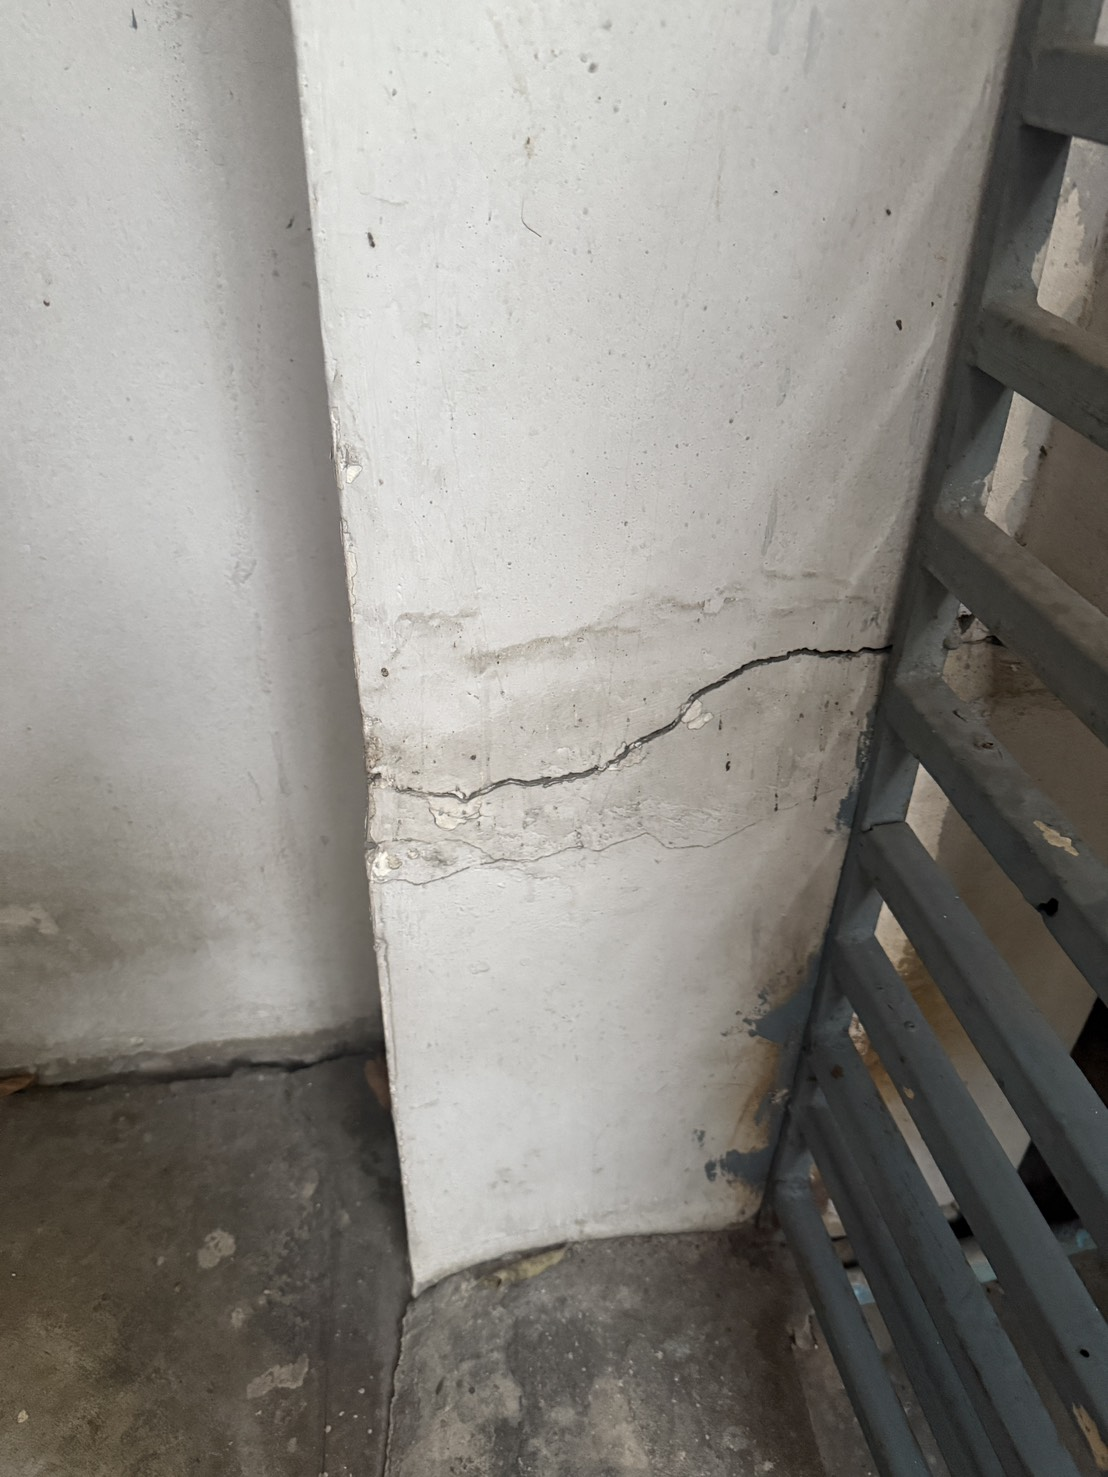High: (284, 612, 897, 957)
